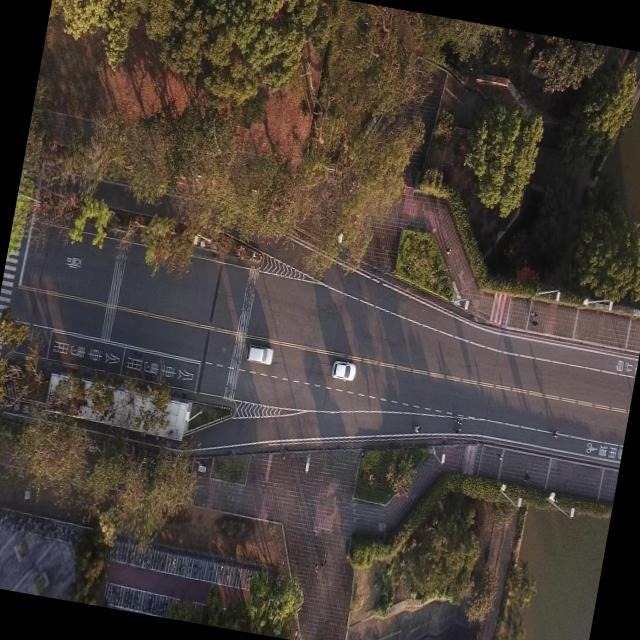car: (328, 356, 358, 382), (246, 342, 274, 365)
